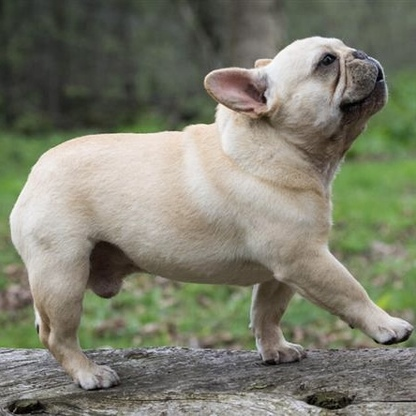bulldog: (3, 35, 416, 393)
